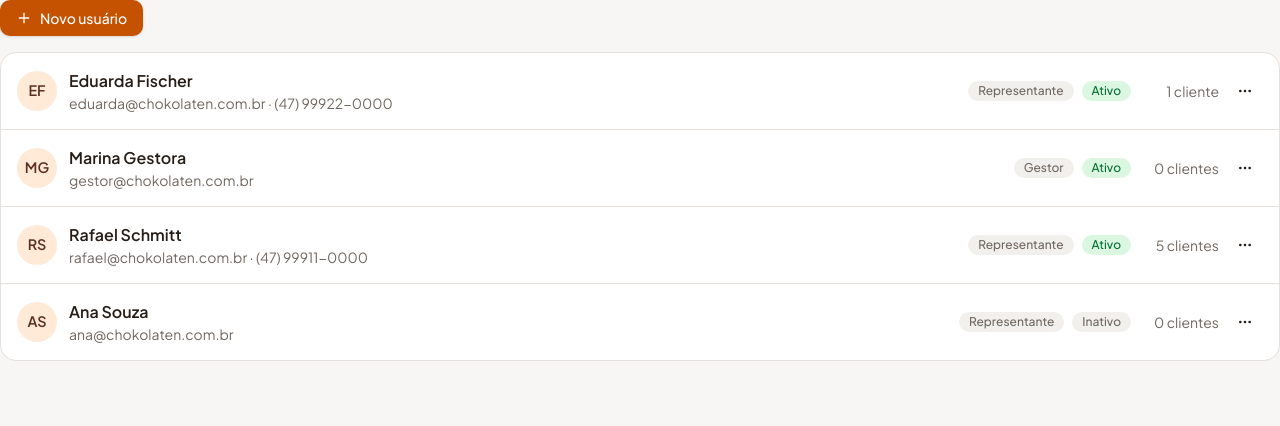
UsuariosPage › erro 503 do envio aparece como aviso de erro
The width and height of the screenshot is (1280, 426).
Click the button named "Ações de Rafael Schmitt" at (1245, 245), box [1227, 227, 1263, 263]
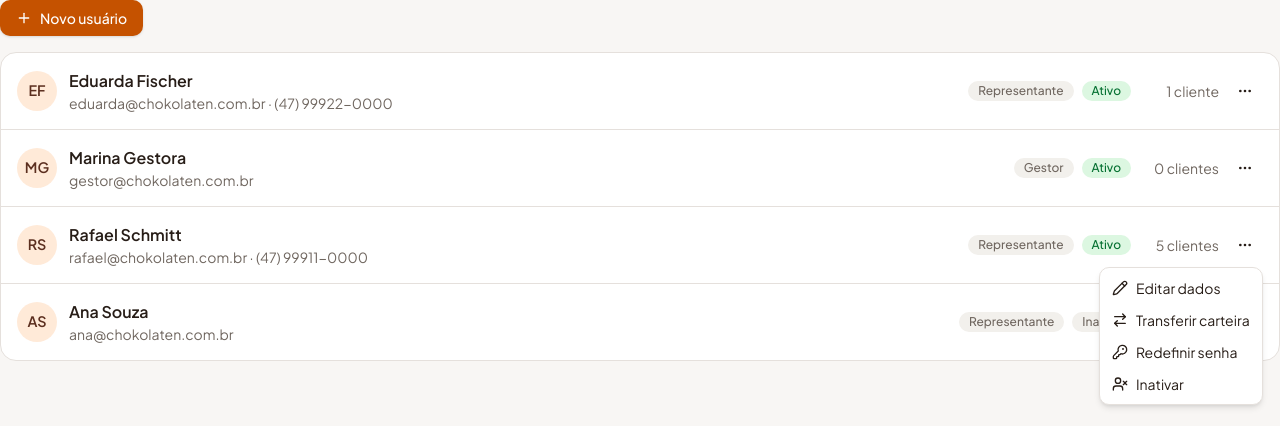
Click the menu item "Redefinir senha" at (1175, 352), box [1112, 343, 1237, 361]
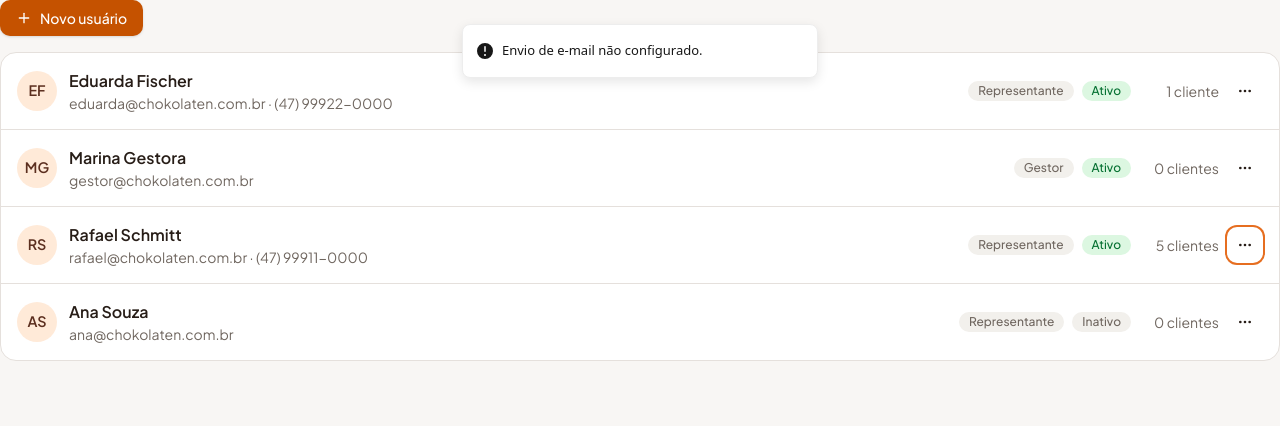
Now the text "Envio de e-mail não configurado." is shown, box [502, 41, 702, 60]
